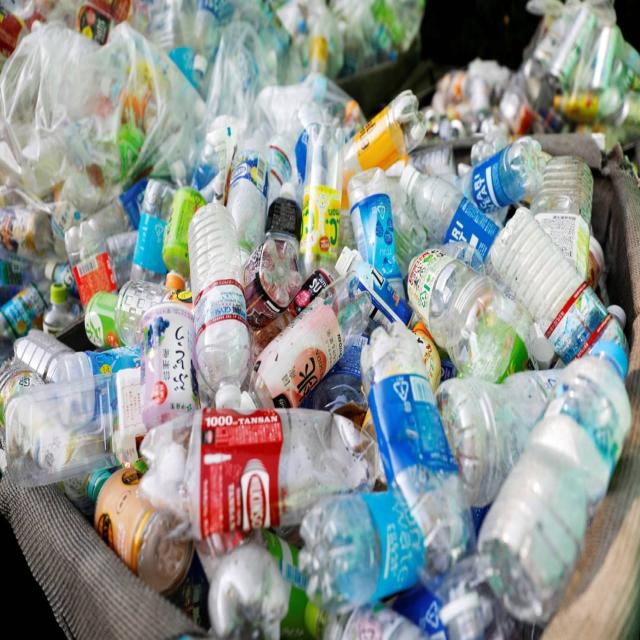Plastics: (10, 11, 622, 626)
